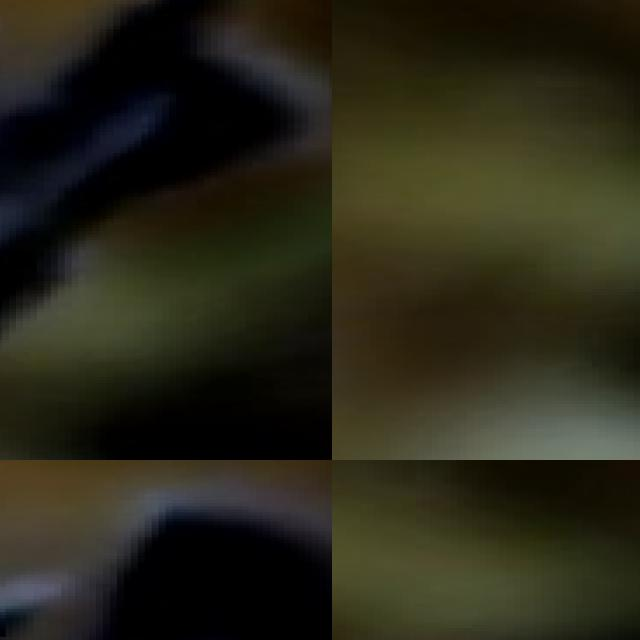fish: (0, 0, 332, 460), (0, 490, 332, 640)
